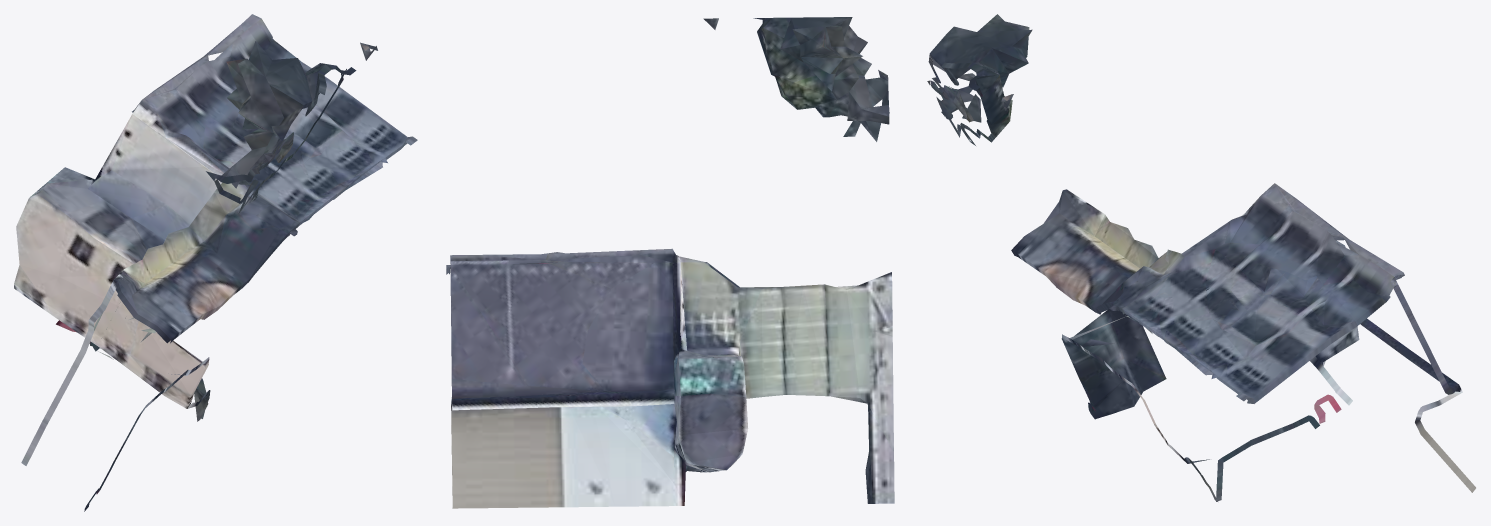
The picture shows the model from 3 angles, left to right: view 1: azimuth 30°, elevation 25°; view 2: azimuth 150°, elevation 25°; view 3: azimuth 270°, elevation 25°; orthographic projection. The views are drawn at different scales.
Size of the model in its own units: 36.76 by 36.66 by 40.
Materials: 1 (1 with a texture image).
